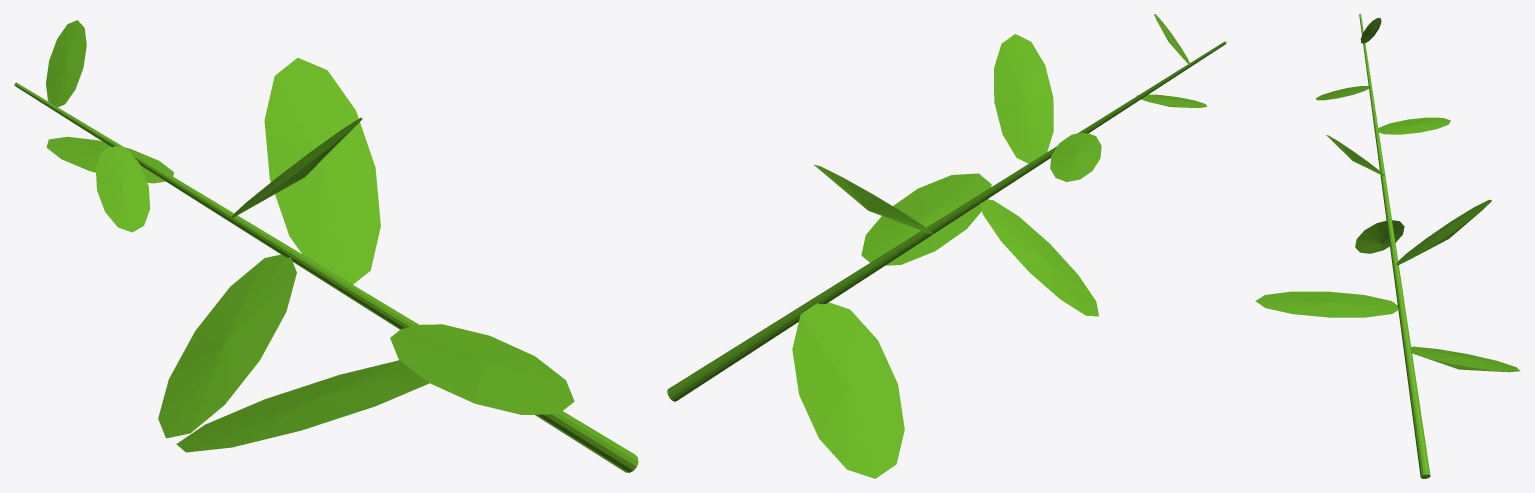
3 views of the same model, side by side, from view 1: azimuth 30°, elevation 25°; view 2: azimuth 150°, elevation 25°; view 3: azimuth 270°, elevation 25° (orthographic). The views are drawn at different scales.
Visible parts, largest first — view 1: tree; view 2: tree; view 3: tree.
Part boxes in pixels (x1,y1,x2,y2): tree: (14,20,638,472); tree: (667,14,1226,478); tree: (1255,14,1520,478).
Size of the model in its own units: 0.2423 by 0.1623 by 0.2132.
